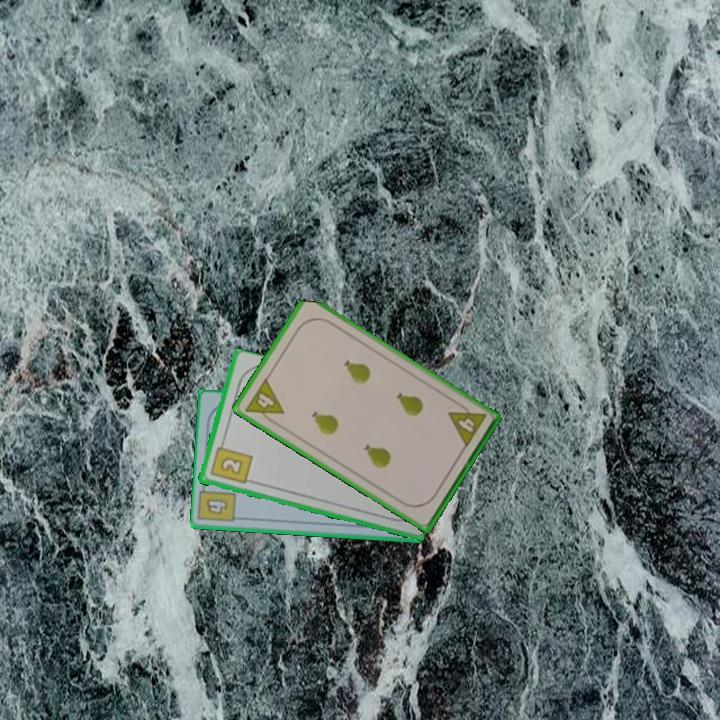2b: (206, 438, 254, 487)
4b: (202, 495, 230, 518)
4p: (241, 374, 287, 428), (445, 398, 489, 451)
